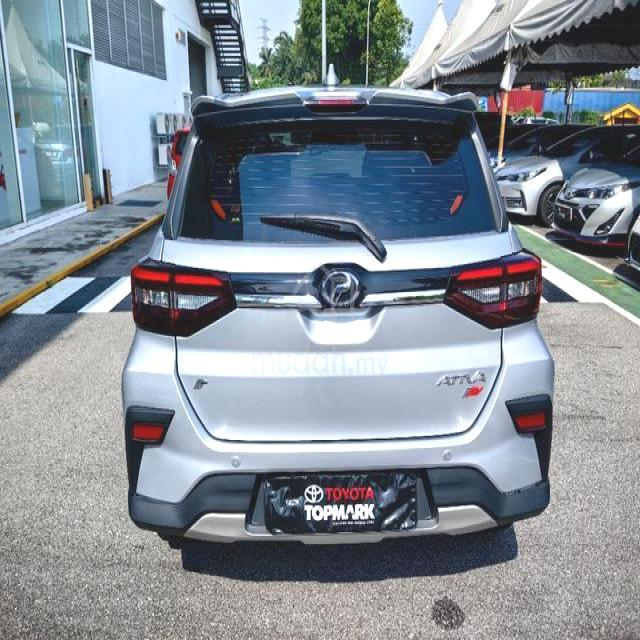PeroduaAtiva: (120, 83, 556, 547)
